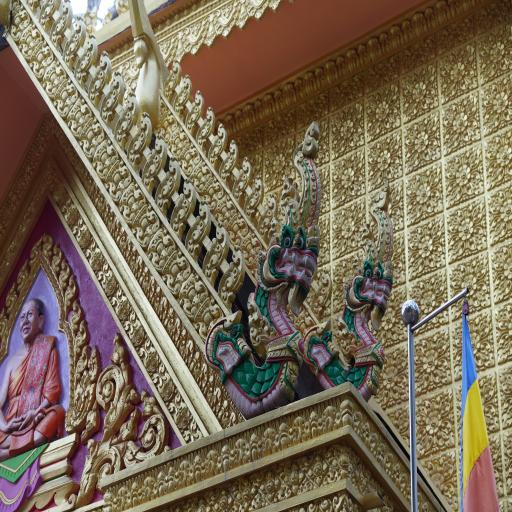hoa: (409, 328, 451, 390), (415, 386, 452, 455), (446, 257, 488, 312), (440, 94, 480, 150), (408, 273, 448, 329), (446, 146, 484, 203), (444, 204, 485, 256), (454, 314, 489, 372), (329, 200, 365, 253), (374, 344, 408, 400), (406, 164, 441, 218), (373, 286, 407, 341), (400, 119, 439, 166), (409, 222, 444, 274), (366, 133, 400, 185), (329, 152, 365, 200), (437, 50, 477, 93), (330, 102, 364, 152), (402, 68, 436, 116), (478, 28, 512, 75), (366, 88, 402, 132), (481, 80, 512, 131), (484, 132, 512, 184), (264, 138, 296, 183), (487, 186, 512, 242), (492, 294, 512, 363), (491, 244, 512, 296), (235, 478, 255, 508), (284, 464, 304, 492), (333, 446, 353, 474), (259, 470, 278, 498), (213, 487, 234, 512), (309, 457, 329, 483), (194, 498, 210, 512)
la: (122, 413, 172, 461), (93, 365, 128, 411), (82, 447, 120, 484), (70, 319, 90, 347), (70, 344, 88, 374), (3, 282, 19, 313), (56, 256, 69, 294), (16, 257, 30, 292), (63, 274, 76, 310), (65, 297, 80, 328), (26, 235, 40, 268), (50, 240, 62, 275), (87, 345, 100, 377), (38, 232, 51, 263), (0, 307, 7, 343)
lua: (121, 0, 170, 138), (212, 229, 244, 308), (166, 169, 196, 244), (182, 190, 210, 264), (152, 138, 178, 216), (199, 210, 226, 279), (139, 121, 164, 195), (100, 58, 124, 133), (110, 75, 134, 150), (126, 98, 149, 172), (62, 8, 86, 78), (87, 39, 109, 110), (74, 22, 94, 94), (228, 149, 252, 202), (257, 185, 277, 239), (50, 0, 70, 53), (219, 132, 238, 186), (186, 81, 204, 136), (208, 113, 224, 171), (36, 0, 60, 36), (174, 67, 190, 121), (245, 166, 261, 218), (165, 56, 183, 102), (198, 98, 213, 150)
ran: (202, 122, 330, 421), (290, 169, 401, 407)
than: (0, 294, 68, 455), (160, 460, 200, 491), (145, 359, 175, 399), (283, 412, 313, 444), (106, 285, 131, 323), (121, 307, 143, 350), (166, 393, 192, 429), (81, 236, 105, 273), (225, 436, 256, 464), (68, 216, 93, 250), (196, 443, 222, 475), (57, 191, 80, 226), (134, 472, 158, 504), (136, 333, 156, 371), (256, 424, 280, 454), (94, 258, 116, 290), (312, 400, 338, 426), (109, 486, 137, 508)
